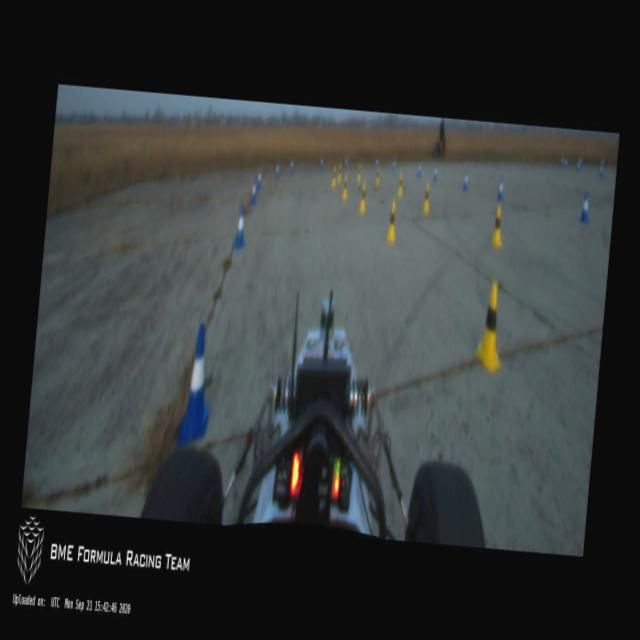blue_cone: (177, 322, 216, 447), (232, 204, 248, 248), (578, 191, 592, 223), (248, 180, 258, 204), (496, 175, 504, 203), (462, 170, 468, 192), (432, 163, 438, 182), (256, 170, 262, 188), (274, 162, 280, 178), (288, 158, 294, 174), (318, 156, 324, 172), (416, 160, 421, 176), (343, 157, 348, 171), (391, 158, 396, 172), (374, 156, 378, 170)
yellow_cone: (472, 280, 507, 372), (490, 203, 504, 246), (385, 200, 399, 242), (358, 182, 368, 213), (422, 182, 431, 214), (395, 171, 404, 196), (341, 174, 348, 200), (330, 164, 337, 188), (373, 166, 380, 189), (356, 162, 362, 182), (337, 161, 342, 183)
